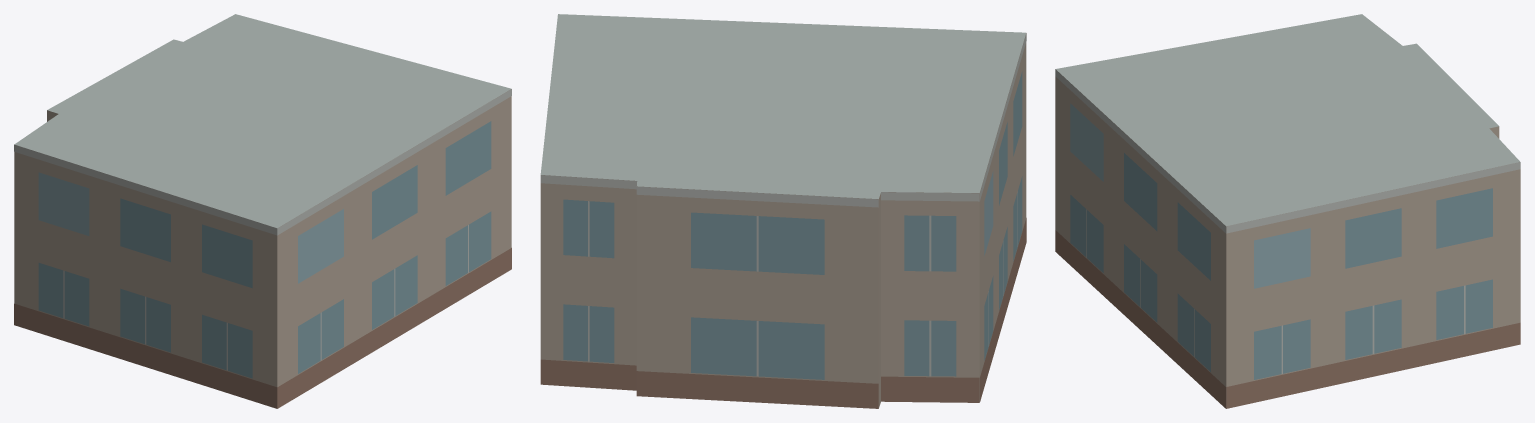
Rendered from survey-upis-32673741.glb.
The picture shows the model from 3 angles, left to right: view 1: azimuth 30°, elevation 25°; view 2: azimuth 150°, elevation 25°; view 3: azimuth 270°, elevation 25°; orthographic projection. The views are drawn at different scales.
Parts seen in each view (by area): view 1: survey-upis-32673741.tmp; view 2: survey-upis-32673741.tmp; view 3: survey-upis-32673741.tmp.
Part boxes in pixels (x1,y1,x2,y2): survey-upis-32673741.tmp: (14, 14, 511, 408); survey-upis-32673741.tmp: (540, 14, 1026, 408); survey-upis-32673741.tmp: (1055, 14, 1520, 408).
Bounding box in the file's own units: 15.22 × 6.1 × 14.1.
